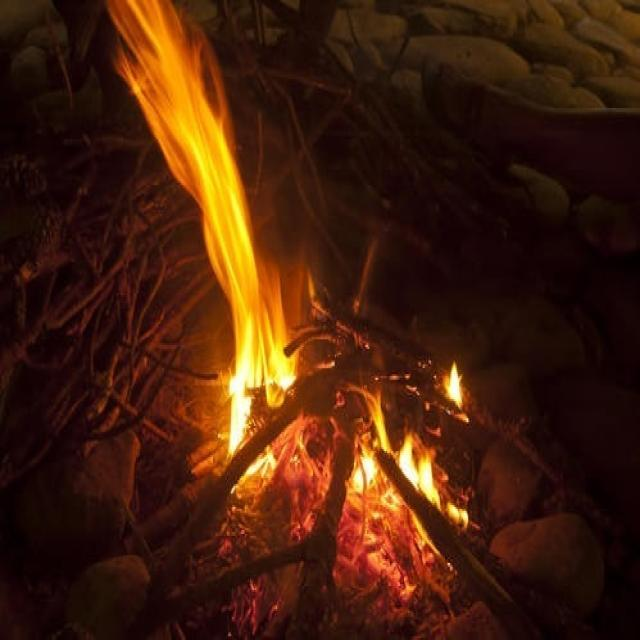Fire: (105, 2, 305, 496), (350, 358, 470, 558)
